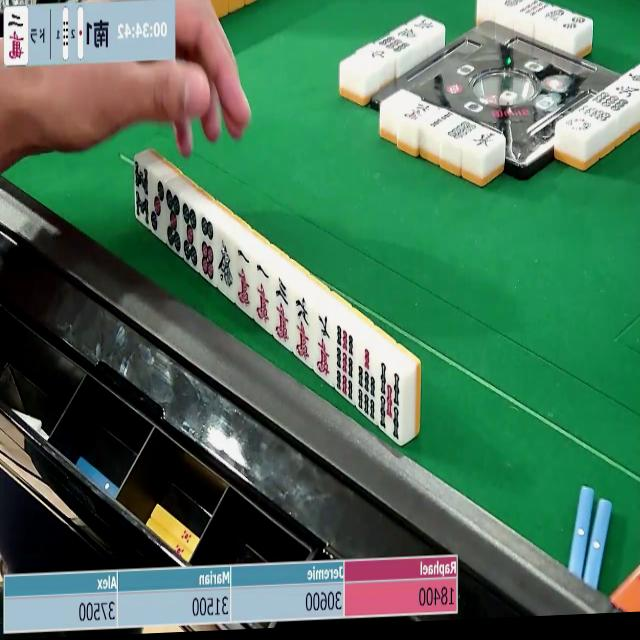east: (473, 127, 496, 155)
fa: (216, 234, 234, 291)
m1: (254, 259, 271, 328), (236, 244, 251, 310)
m2: (4, 10, 27, 66)
m3: (274, 276, 292, 344)
m6: (293, 295, 310, 361)
m7: (315, 310, 331, 378)
s2: (428, 106, 454, 133)
s5: (378, 362, 405, 447)
s7: (357, 345, 375, 423)
s8: (133, 160, 150, 230)
s9: (332, 322, 355, 405)
t3: (148, 177, 164, 237)
t5: (162, 190, 182, 257), (180, 200, 198, 268)
t6: (200, 213, 217, 283)
t8: (448, 115, 477, 144)
